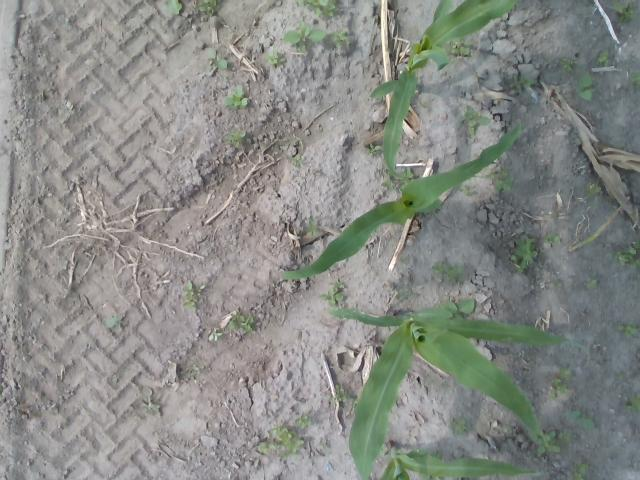Maize: (326, 308, 592, 480), (282, 123, 522, 281), (366, 0, 520, 189), (376, 442, 549, 480)
Weeds: (255, 423, 305, 461), (284, 21, 326, 54), (510, 235, 540, 273), (454, 105, 490, 136), (614, 236, 640, 270), (439, 298, 475, 321), (528, 429, 560, 454), (139, 386, 163, 418), (296, 0, 338, 18), (431, 262, 465, 284), (550, 366, 572, 400), (327, 384, 358, 407), (486, 167, 514, 192), (566, 407, 596, 430), (202, 46, 228, 72), (222, 84, 248, 110), (319, 282, 346, 306), (574, 72, 596, 100), (184, 280, 204, 310), (228, 312, 254, 333), (611, 0, 635, 22), (446, 414, 468, 436), (180, 360, 202, 380), (377, 168, 396, 191), (449, 37, 472, 56), (326, 30, 349, 48), (510, 72, 530, 92), (265, 48, 284, 68), (226, 129, 245, 148), (622, 392, 640, 412), (572, 461, 590, 480), (196, 0, 217, 16), (398, 168, 413, 190), (164, 0, 184, 16), (618, 321, 638, 337), (294, 412, 312, 428), (584, 182, 602, 198), (102, 315, 122, 329), (544, 230, 562, 244), (304, 218, 318, 236), (595, 50, 610, 66), (364, 142, 381, 156), (559, 57, 574, 72), (628, 70, 640, 88), (558, 430, 573, 444), (420, 471, 443, 480), (208, 327, 222, 340), (288, 154, 303, 166), (586, 276, 598, 288), (396, 290, 409, 298), (552, 278, 562, 288), (464, 187, 476, 195), (431, 450, 442, 458), (502, 422, 511, 430), (418, 100, 427, 108), (616, 373, 626, 379)
